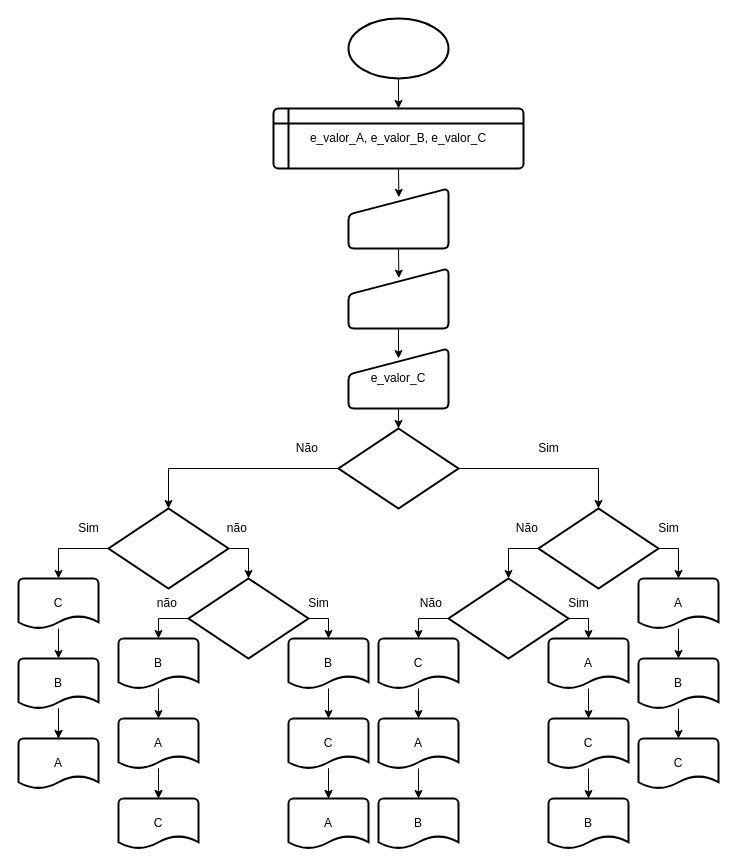
This 736x866 diagram has some shape labels left out. The shapes that lost their labels are listed below. From the top down, each one's box as (x1, y1, x2, y2) in pixels, then its label:
(347, 17, 449, 79): Start
(347, 187, 449, 249): e_valor_A
(347, 267, 449, 329): e_valor_B
(337, 427, 459, 509): A > B
(107, 507, 229, 589): C > B
(537, 507, 659, 589): B > C
(187, 577, 309, 659): C > A
(447, 577, 569, 659): A > C
